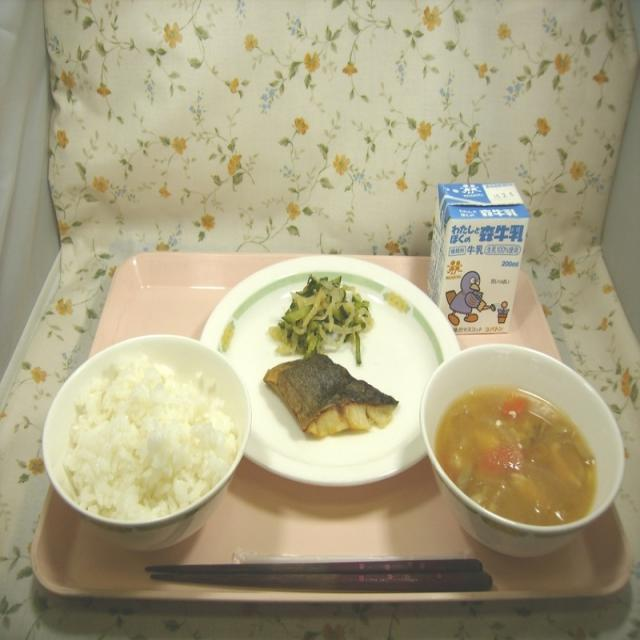Rice: (36, 336, 245, 534)
